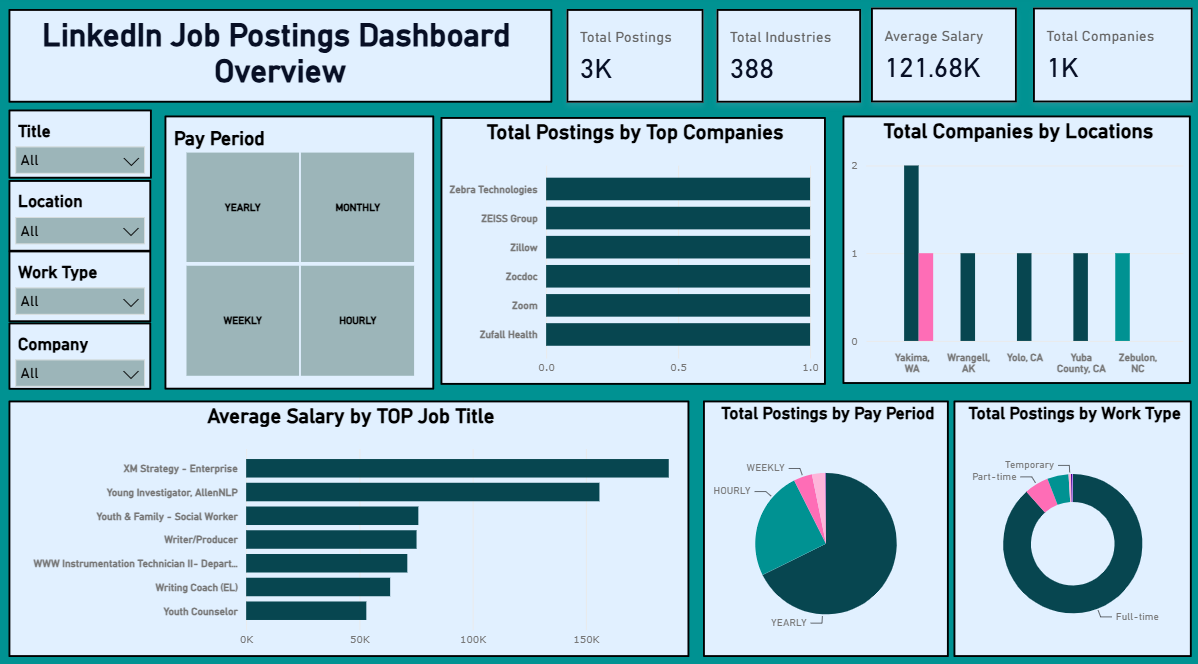

Layout of this report page (visuals, bound fields, positions):
{"tool":"powerbi","page":{"name":"Summary (Overview)","canvas":[1280,720],"ordinal":0},"visuals":[{"type":"clusteredBarChart","title":"Average Salary by TOP Job Title","fields":{"Category":["postings.title"],"Y":["postings.Average Salary"]},"box":[11.1,431.1,722.1,272],"z":0},{"type":"donutChart","title":"Total Postings by Work Type","fields":{"Category":["postings.formatted_work_type"],"Y":["postings.Total Postings"]},"box":[1013.2,431.1,252.9,272],"z":1000},{"type":"pieChart","title":"Total Postings by Pay Period","fields":{"Category":["postings.pay_period"],"Y":["postings.Total Postings"]},"box":[747.7,431.1,260.9,272],"z":2000},{"type":"slicer","fields":{"Values":["postings.pay_period"]},"box":[177.3,129.4,285.9,290.7],"z":3000},{"type":"clusteredColumnChart","title":"Total Companies by Locations","fields":{"Category":["postings.location"],"Series":["postings.formatted_work_type"],"Y":["CountNonNull(postings.company_name)"]},"box":[895.5,128.8,369,284.7],"z":4000},{"type":"slicer","fields":{"Values":["postings.title"]},"box":[11.2,123,151.7,73.5],"z":5000},{"type":"slicer","fields":{"Values":["postings.location"]},"box":[11.6,196.5,151.4,75.7],"z":6000},{"type":"slicer","fields":{"Values":["postings.formatted_work_type"]},"box":[11.6,272.2,151.4,75.7],"z":7000},{"type":"barChart","title":"Total Postings by Top Companies","fields":{"Category":["postings.company_name"],"Y":["postings.Total Postings"]},"box":[469.2,130.4,408.9,284.3],"z":8000},{"type":"textbox","box":[11.2,16,576.6,99],"z":9000},{"type":"slicer","fields":{"Values":["postings.company_name"]},"box":[11.6,347.9,151.4,71.3],"z":10000},{"type":"cardVisual","fields":{"Data":["postings.Total Postings"]},"box":[602.2,16,145.4,99],"z":11000},{"type":"cardVisual","fields":{"Data":["postings.Average Salary"]},"box":[926.5,14.4,154.9,100.6],"z":12000},{"type":"cardVisual","fields":{"Data":["postings.Total Companies"]},"box":[1097.4,14.4,169.3,100.6],"z":13000},{"type":"cardVisual","fields":{"Data":["industries.Total Industries"]},"box":[761.9,16,153.3,99],"z":14000}]}

Visuals, with their boxes in screenshot pixels (x1, y1, x2, y2), scaled from the page's 1280x720 canvas onto the 1198x664 screenshot:
"Average Salary by TOP Job Title" clusteredBarChart: {"x1": 10, "y1": 398, "x2": 686, "y2": 648}
"Total Postings by Work Type" donutChart: {"x1": 948, "y1": 398, "x2": 1185, "y2": 648}
"Total Postings by Pay Period" pieChart: {"x1": 700, "y1": 398, "x2": 944, "y2": 648}
slicer - postings.pay_period: {"x1": 166, "y1": 119, "x2": 434, "y2": 387}
"Total Companies by Locations" clusteredColumnChart: {"x1": 838, "y1": 119, "x2": 1183, "y2": 381}
slicer - postings.title: {"x1": 10, "y1": 113, "x2": 152, "y2": 181}
slicer - postings.location: {"x1": 11, "y1": 181, "x2": 153, "y2": 251}
slicer - postings.formatted_work_type: {"x1": 11, "y1": 251, "x2": 153, "y2": 321}
"Total Postings by Top Companies" barChart: {"x1": 439, "y1": 120, "x2": 822, "y2": 382}
textbox: {"x1": 10, "y1": 15, "x2": 550, "y2": 106}
slicer - postings.company_name: {"x1": 11, "y1": 321, "x2": 153, "y2": 387}
cardVisual - postings.Total Postings: {"x1": 564, "y1": 15, "x2": 700, "y2": 106}
cardVisual - postings.Average Salary: {"x1": 867, "y1": 13, "x2": 1012, "y2": 106}
cardVisual - postings.Total Companies: {"x1": 1027, "y1": 13, "x2": 1186, "y2": 106}
cardVisual - industries.Total Industries: {"x1": 713, "y1": 15, "x2": 857, "y2": 106}
